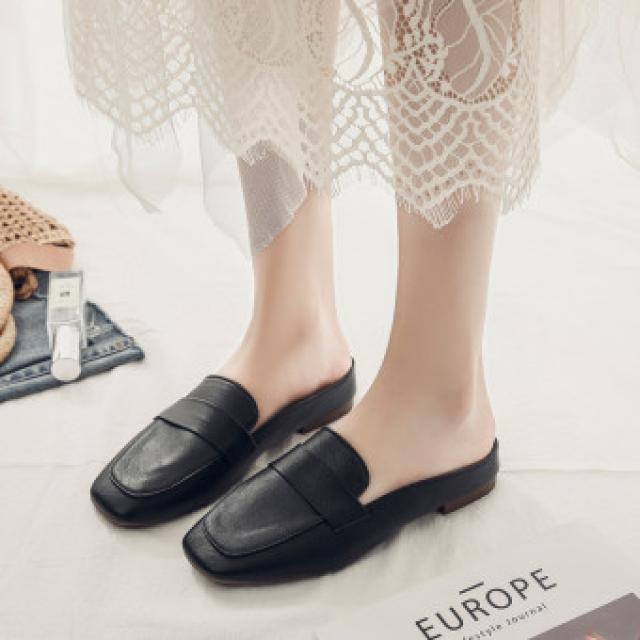no-boots: (186, 363, 527, 610)
